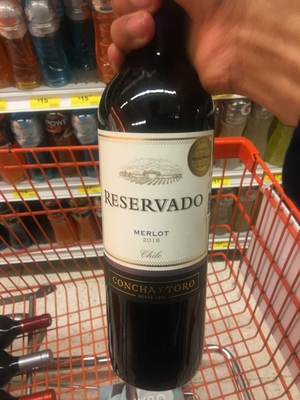reservado merlot: (88, 11, 236, 374)
